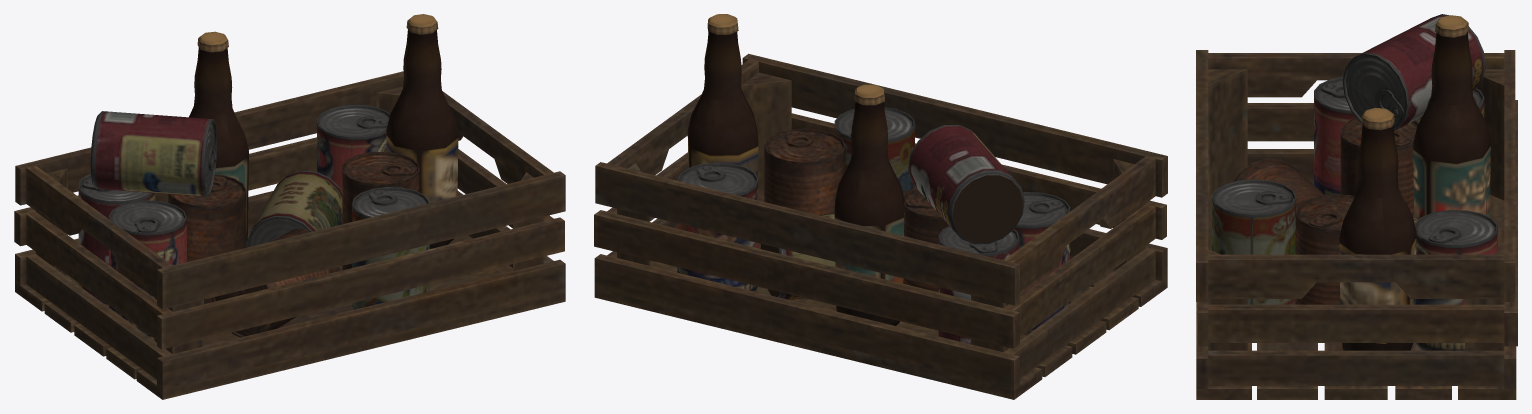
Rendered from supply_crate_1.obj.
3 renders of one model, left to right at view 1: azimuth 30°, elevation 25°; view 2: azimuth 150°, elevation 25°; view 3: azimuth 270°, elevation 25°, orthographic. The views are drawn at different scales.
Parts seen in each view (by area): view 1: supply_crate_1; view 2: supply_crate_1; view 3: supply_crate_1.
Part boxes in pixels (x1,y1,x2,y2): supply_crate_1: (14,14,565,399); supply_crate_1: (594,14,1167,399); supply_crate_1: (1196,14,1517,399).
Bounding box in the file's own units: 0.668 × 0.3725 × 0.4262.
